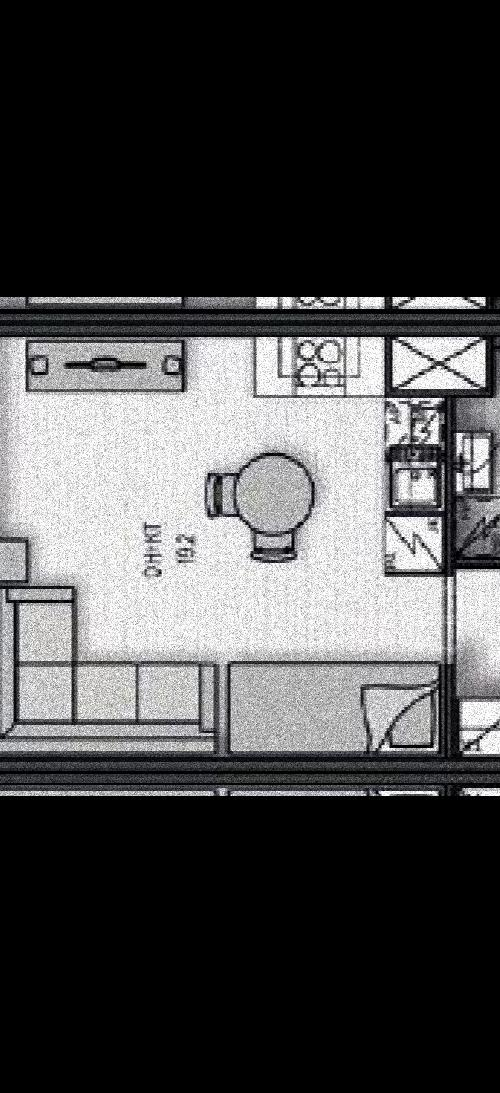zone: (0, 347, 446, 756), (453, 352, 500, 755)
